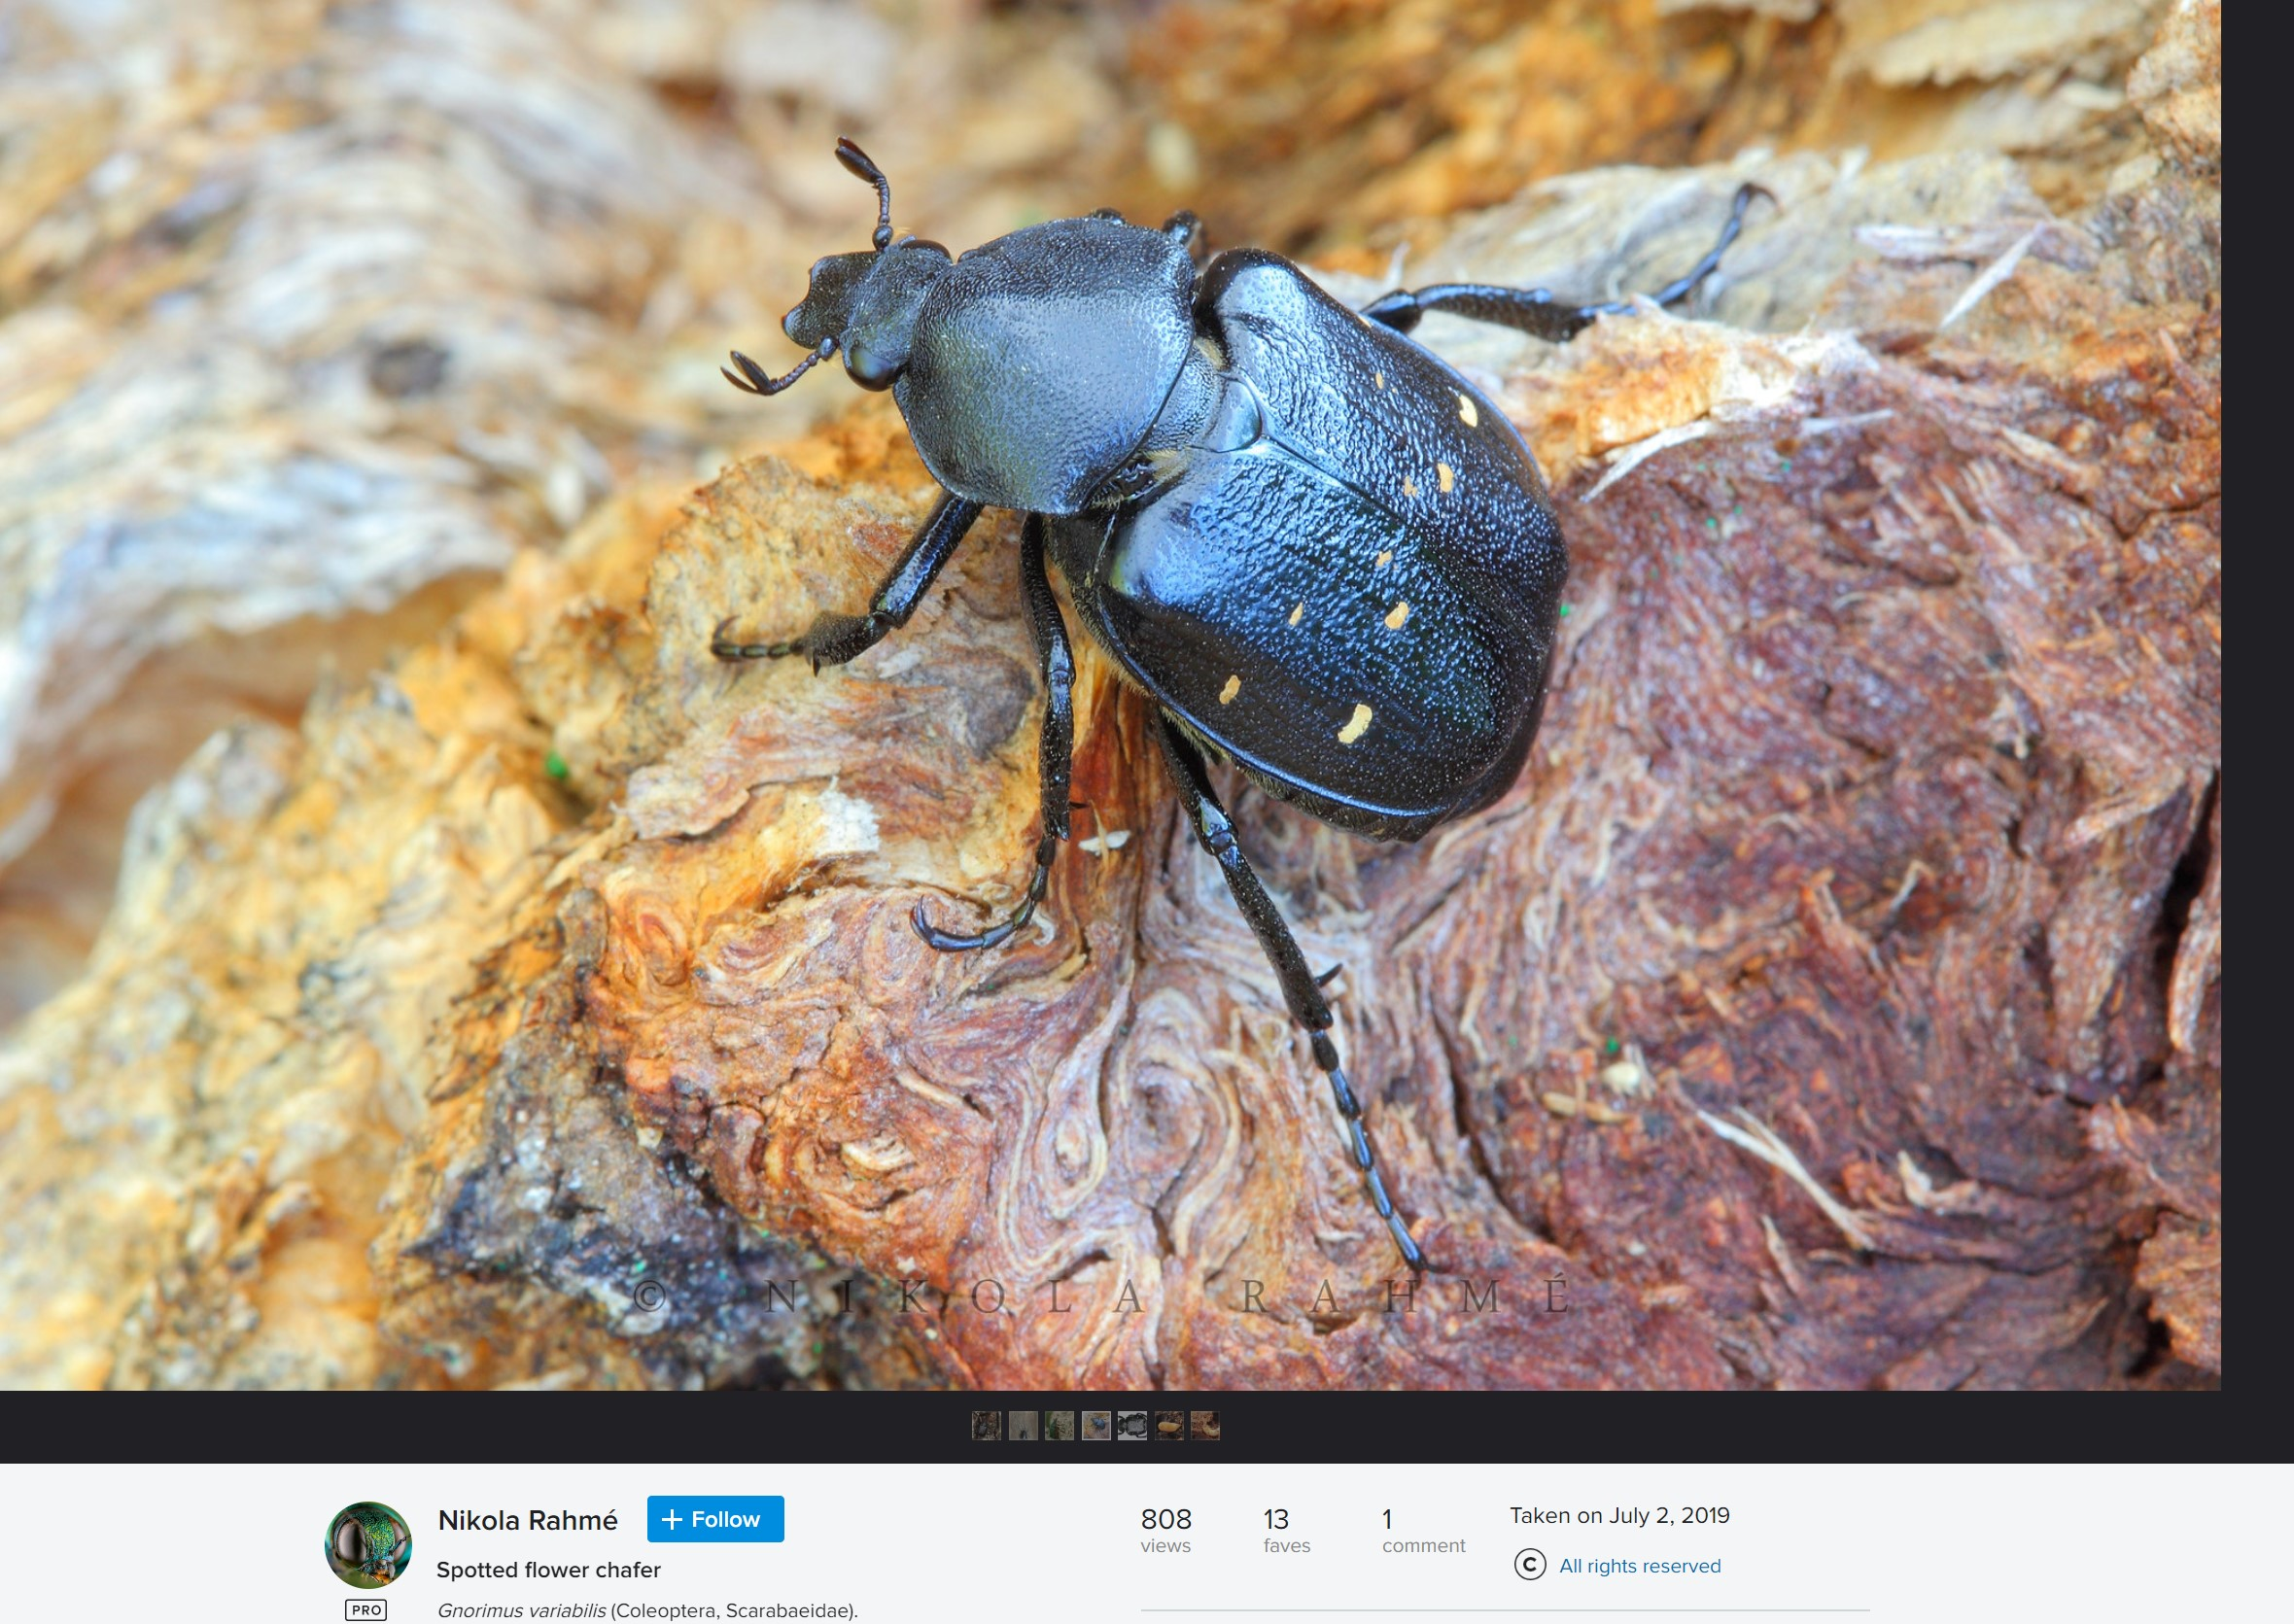Gnorimus_variabilis: (689, 114, 1811, 1297)
